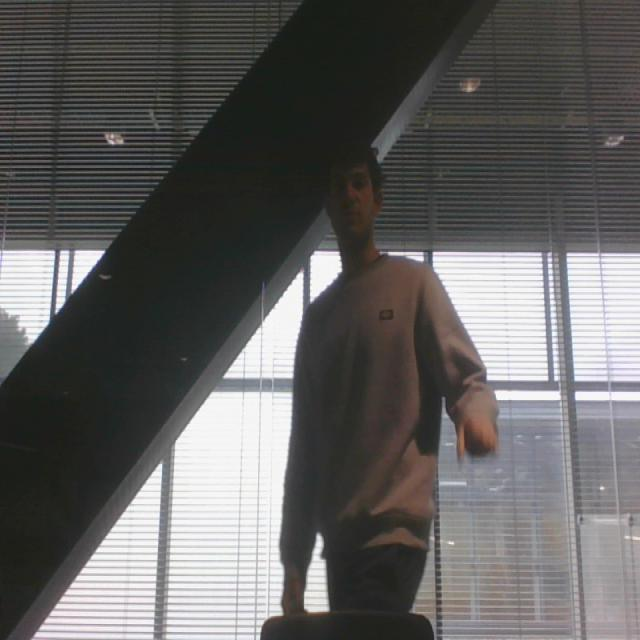stop: (452, 403, 506, 473)
